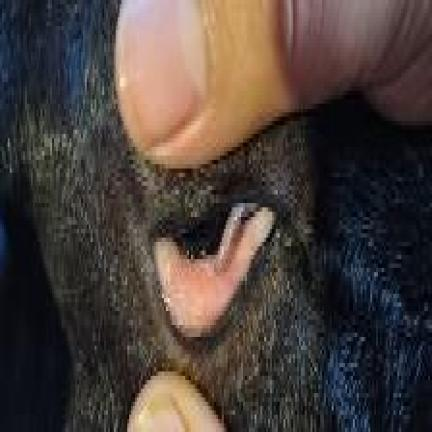goat-eye-anemia-22222222: (154, 203, 274, 333)
